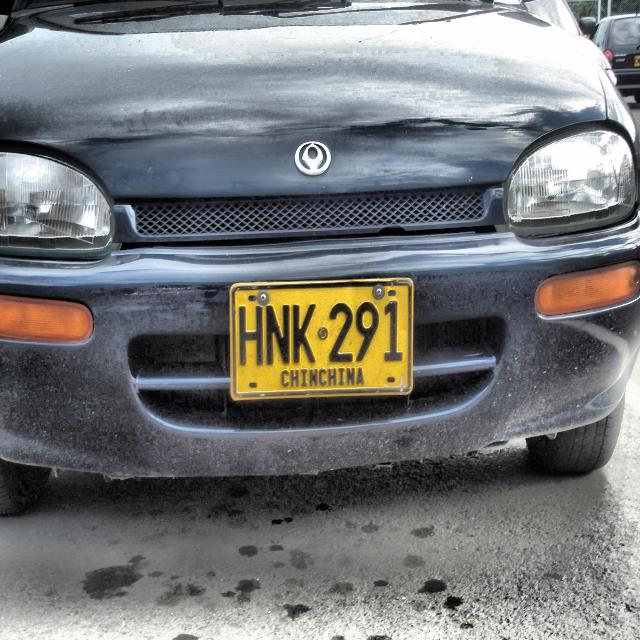plate: (230, 277, 415, 401)
